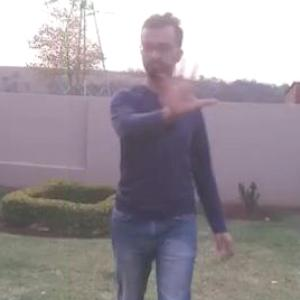follow_hand: (154, 50, 220, 120)
